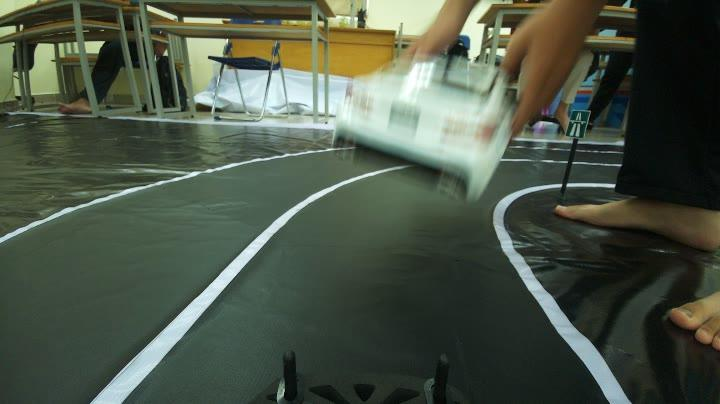highway_entry: (564, 104, 591, 140)
